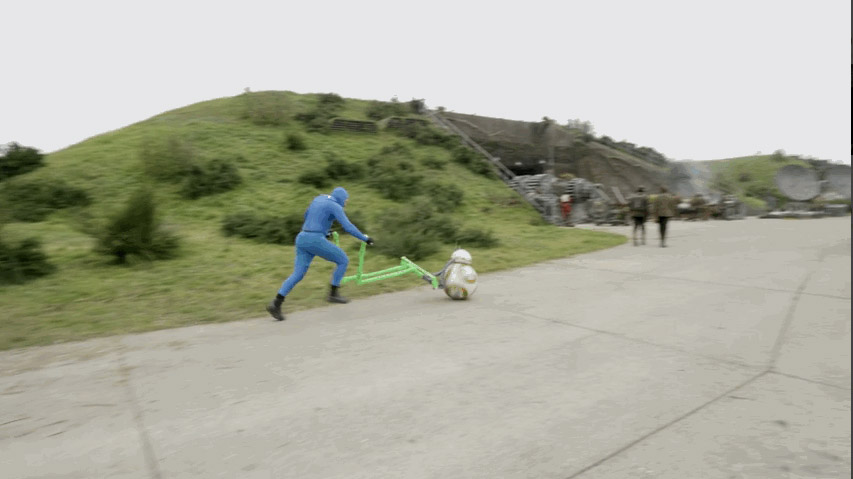bb8: (442, 248, 478, 301)
